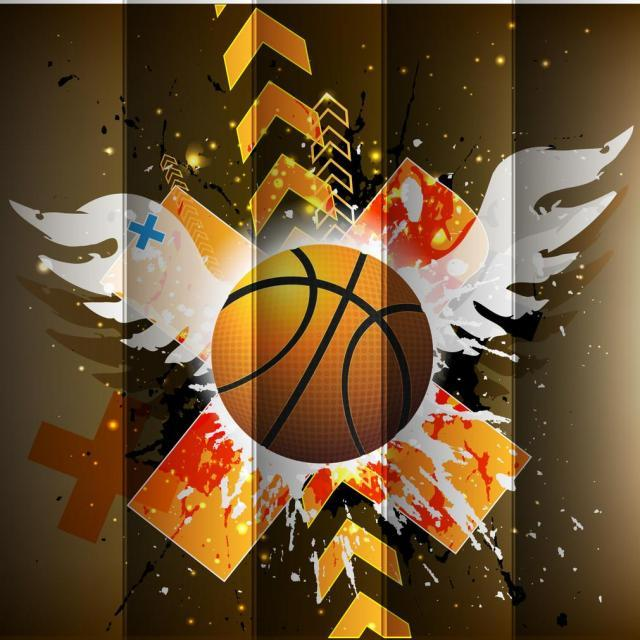rim: (212, 242, 430, 462)
